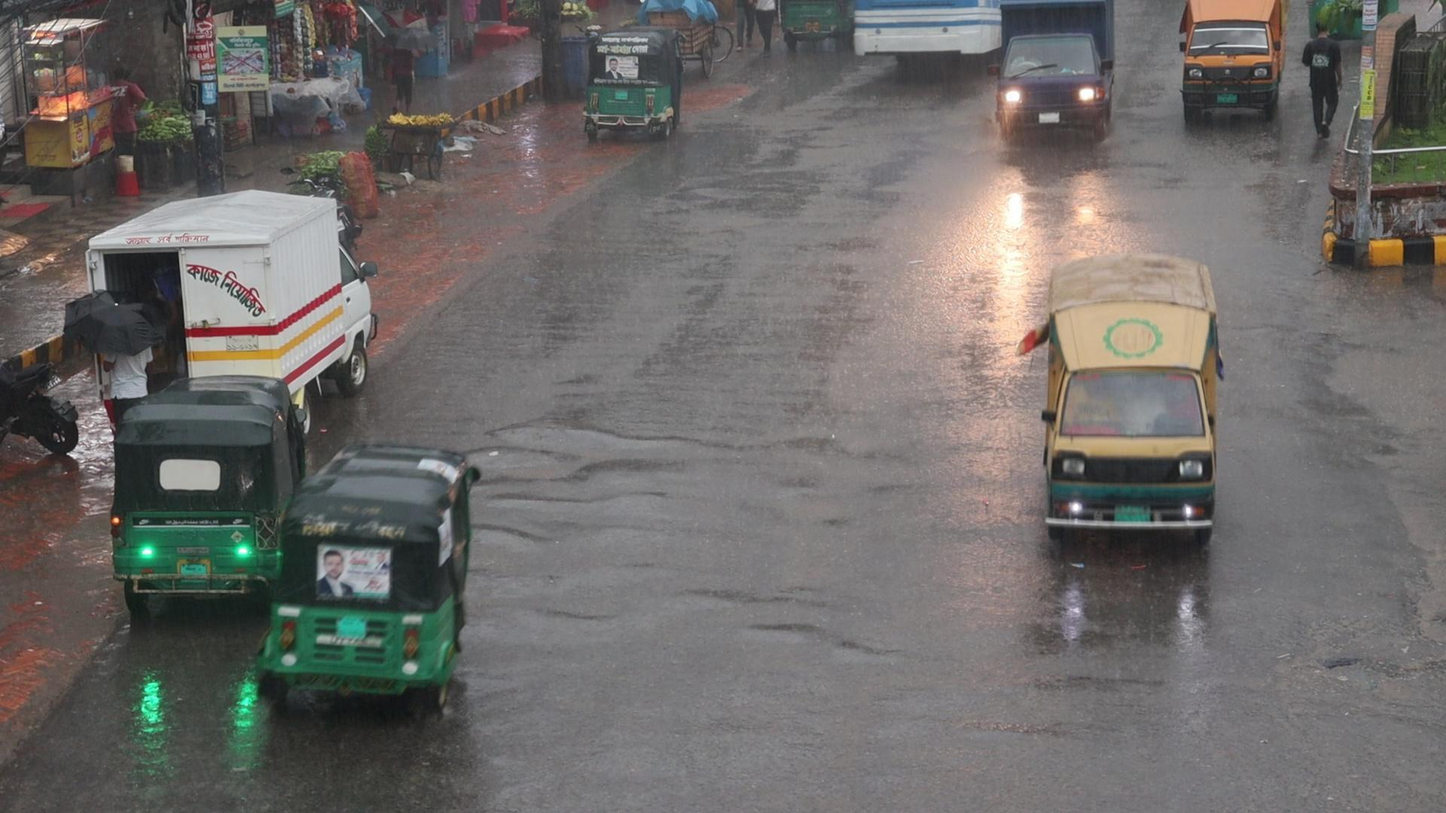Truck: (1036, 247, 1233, 557), (994, 6, 1118, 160), (1182, 5, 1288, 128)
